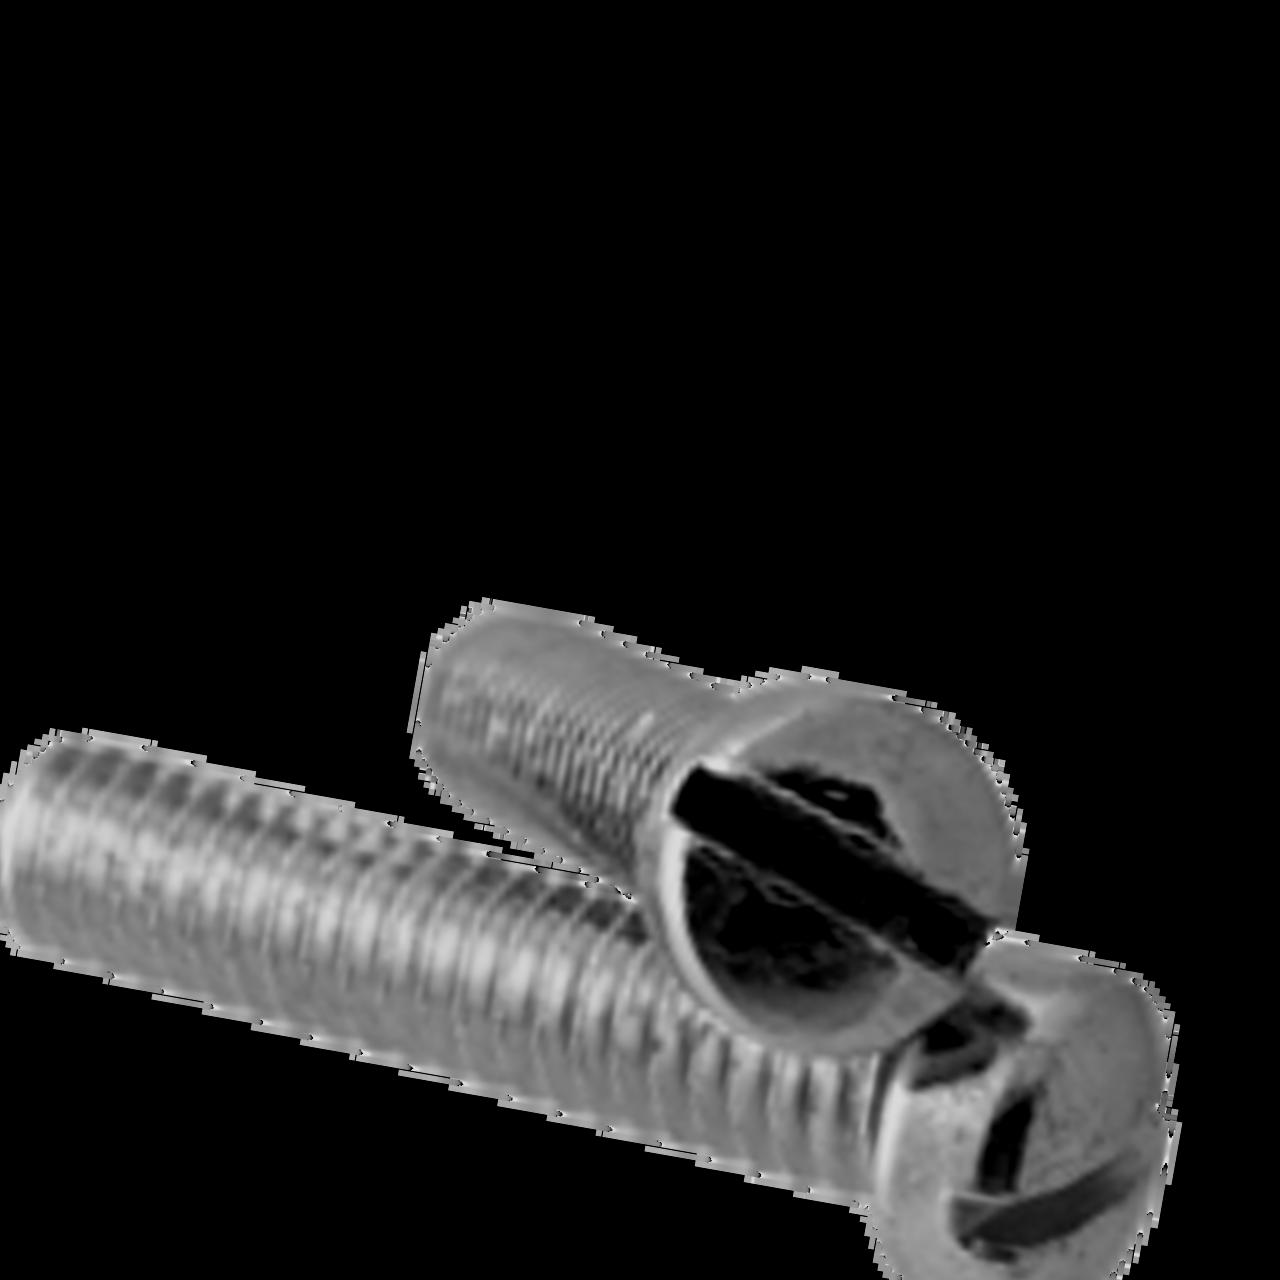slotted: (619, 648, 1041, 1088)
